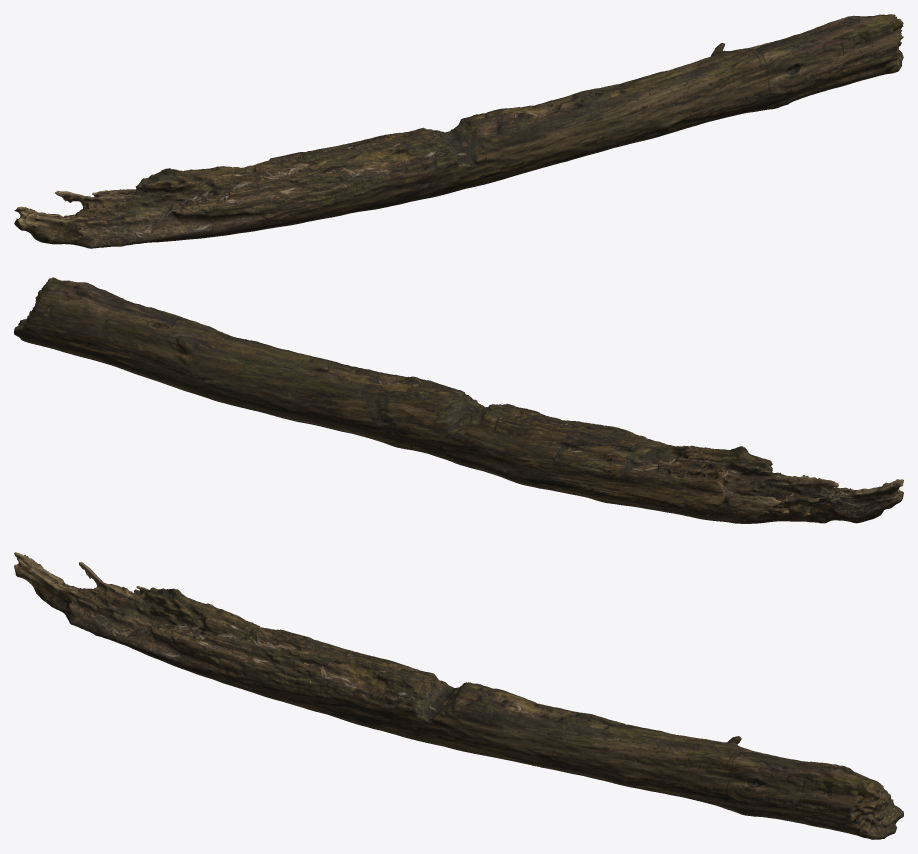
Rendered from dead_tree_trunk.gltf.
3 renders of one model, top to bottom at view 1: azimuth 30°, elevation 25°; view 2: azimuth 150°, elevation 25°; view 3: azimuth 330°, elevation 25°, orthographic.
Visible parts, largest first — view 1: dead_tree_trunk; view 2: dead_tree_trunk; view 3: dead_tree_trunk.
Boxes of the visible parts, x1,y1,x2,y2 form: dead_tree_trunk: [14, 14, 903, 248]; dead_tree_trunk: [14, 277, 903, 523]; dead_tree_trunk: [14, 552, 903, 839].
Bounding box in the file's own units: 3.05 × 0.2904 × 0.2775.
1 material, 1 textured.
